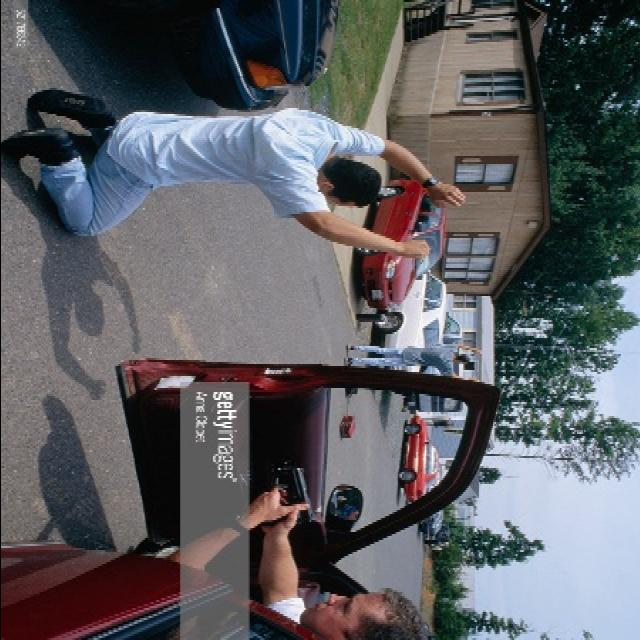handgun: (274, 457, 321, 529)
